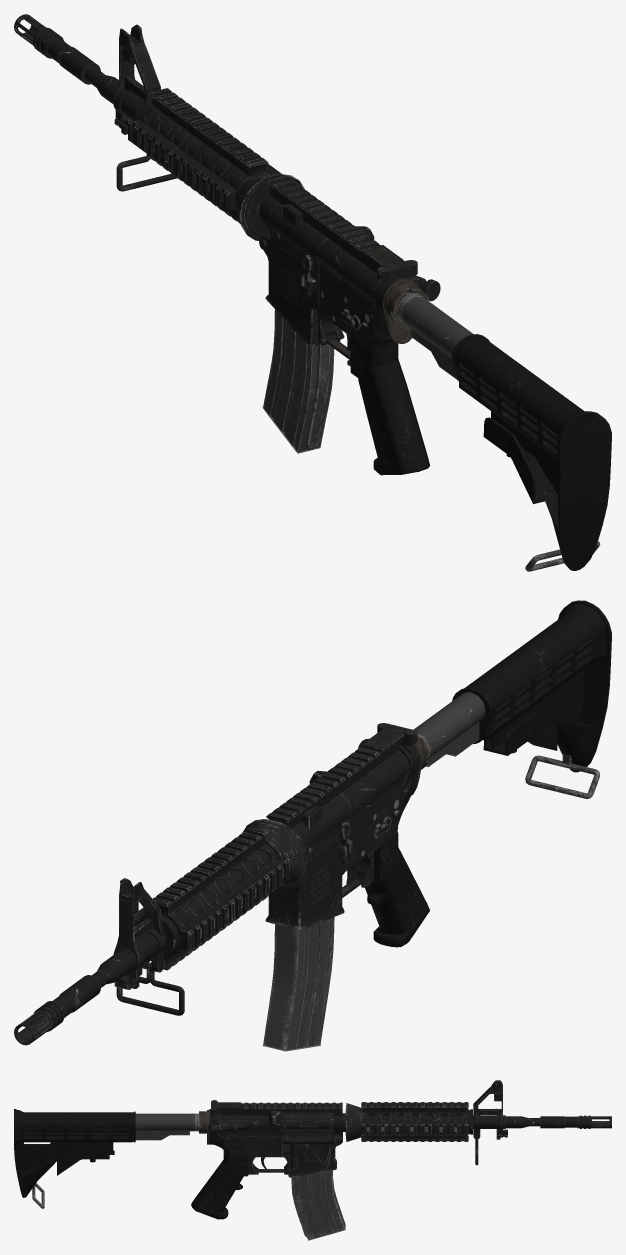
3 renders of one model, top to bottom at view 1: azimuth 30°, elevation 25°; view 2: azimuth 150°, elevation 25°; view 3: azimuth 270°, elevation 25°, orthographic. The views are drawn at different scales.
Parts seen in each view (by area): view 1: body, magazine; view 2: body, magazine; view 3: body, magazine, bolt.
Part boxes in pixels (box(x1,y1,x2,y2)): body: box(14, 14, 611, 571); magazine: box(262, 309, 334, 453); body: box(14, 600, 611, 1045); magazine: box(262, 886, 334, 1051); body: box(14, 1080, 611, 1219); magazine: box(291, 1170, 345, 1240); bolt: box(284, 1121, 330, 1128).
Bounding box in the file's own units: 0.0642 × 0.2411 × 0.84.
Materials: 3 (3 with a texture image).
